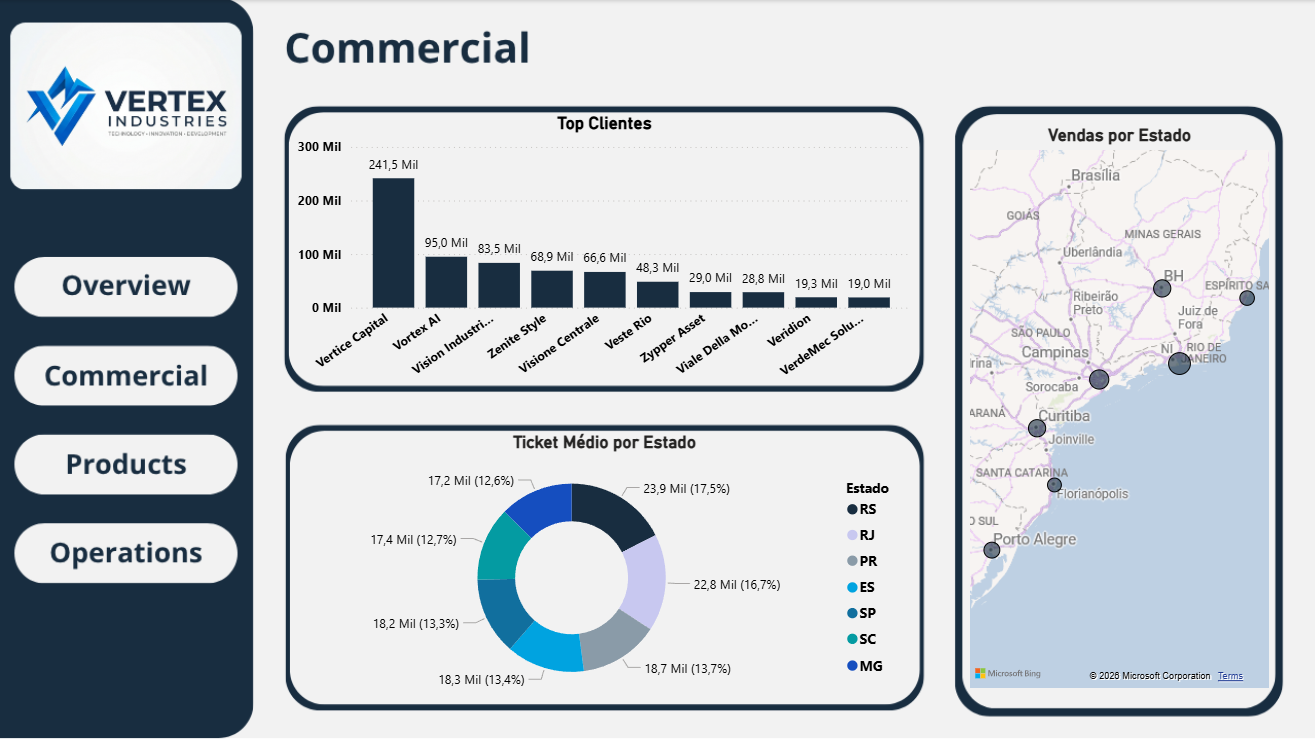

What the dashboard file says about the page in this screenshot:
{"tool":"powerbi","page":{"name":"Commercial","canvas":[1280,720],"ordinal":1},"visuals":[{"type":"columnChart","title":"Top Clientes","fields":{"Category":["vertex_industries vw_vendas_comercial.nome_cliente"],"Y":["vertex_industries vw_dashboard_executivo.Faturamento Total"]},"box":[284.9,110.2,607.8,268.3],"z":0},{"type":"map","title":"Vendas por Estado","fields":{"Category":["vertex_industries vw_vendas_comercial.estado_brasil"],"Size":["vertex_industries vw_dashboard_executivo.Faturamento Total"]},"box":[939.6,121.6,300.5,553.4],"z":1000},{"type":"donutChart","title":"Ticket Médio por Estado","fields":{"Y":["vertex_industries vw_dashboard_executivo.Ticket Medio"],"Category":["vertex_industries vw_vendas_comercial.estado"]},"box":[285,420.2,607.9,264.6],"z":2000},{"type":"actionButton","box":[22.4,509.7,201.3,56.4],"z":2001},{"type":"actionButton","box":[22.4,423.1,201.3,56.4],"z":2002},{"type":"actionButton","box":[22.4,250.9,201.3,56.4],"z":2003}]}

Visuals, with their boxes in screenshot pixels (x1, y1, x2, y2), scaled from the page's 1280x720 canvas onto the 1315x740 screenshot:
"Top Clientes" columnChart: <box>293,113,917,389</box>
"Vendas por Estado" map: <box>965,125,1274,694</box>
"Ticket Médio por Estado" donutChart: <box>293,432,917,704</box>
actionButton: <box>23,524,230,582</box>
actionButton: <box>23,435,230,493</box>
actionButton: <box>23,258,230,316</box>
